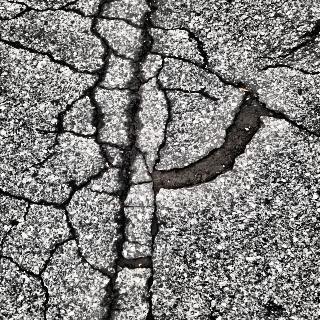alligator-crack: (39, 0, 173, 320)
crack: (0, 248, 37, 278), (262, 61, 320, 76), (0, 185, 41, 206), (172, 84, 219, 100), (172, 52, 209, 71), (277, 40, 313, 58), (0, 7, 40, 22), (1, 37, 38, 53), (190, 28, 207, 52), (220, 79, 248, 88)
pothole: (217, 90, 279, 181), (171, 147, 227, 191)
